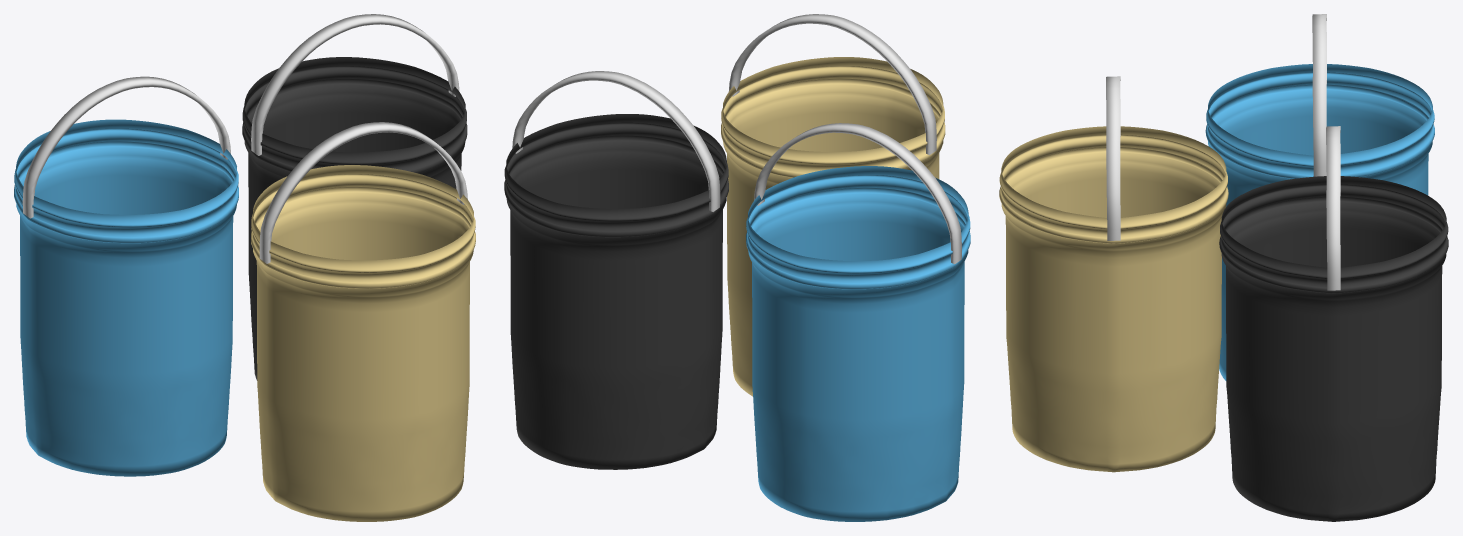
Rendered from bukcet.fbx.
3 views of the same model, side by side, from view 1: azimuth 30°, elevation 25°; view 2: azimuth 150°, elevation 25°; view 3: azimuth 270°, elevation 25° (orthographic). The views are drawn at different scales.
Parts seen in each view (by area): view 1: kaporit.008, kaporit.006, kaporit.009; view 2: kaporit.009, kaporit.008, kaporit.006; view 3: kaporit.009, kaporit.006, kaporit.008.
Part boxes in pixels (box(x1,y1,x2,y2)): kaporit.008: box(14, 76, 238, 476); kaporit.006: box(251, 122, 475, 521); kaporit.009: box(242, 14, 467, 380); kaporit.009: box(504, 71, 728, 469); kaporit.008: box(746, 123, 970, 521); kaporit.006: box(721, 14, 945, 396); kaporit.009: box(1219, 126, 1448, 521); kaporit.006: box(999, 76, 1228, 472); kaporit.008: box(1205, 14, 1434, 380).
Bounding box in the file's own units: 114 × 87.98 × 104.
